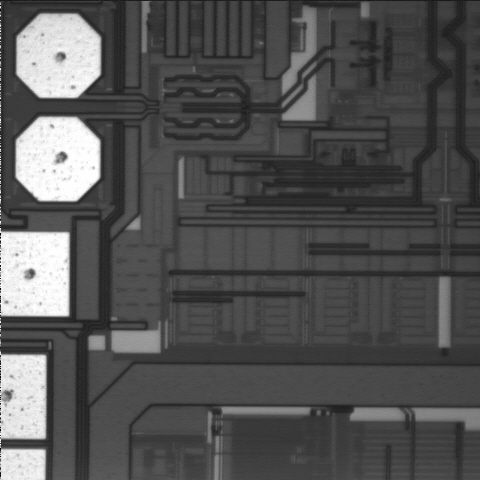pad: (17, 14, 101, 98), (16, 117, 100, 201)
